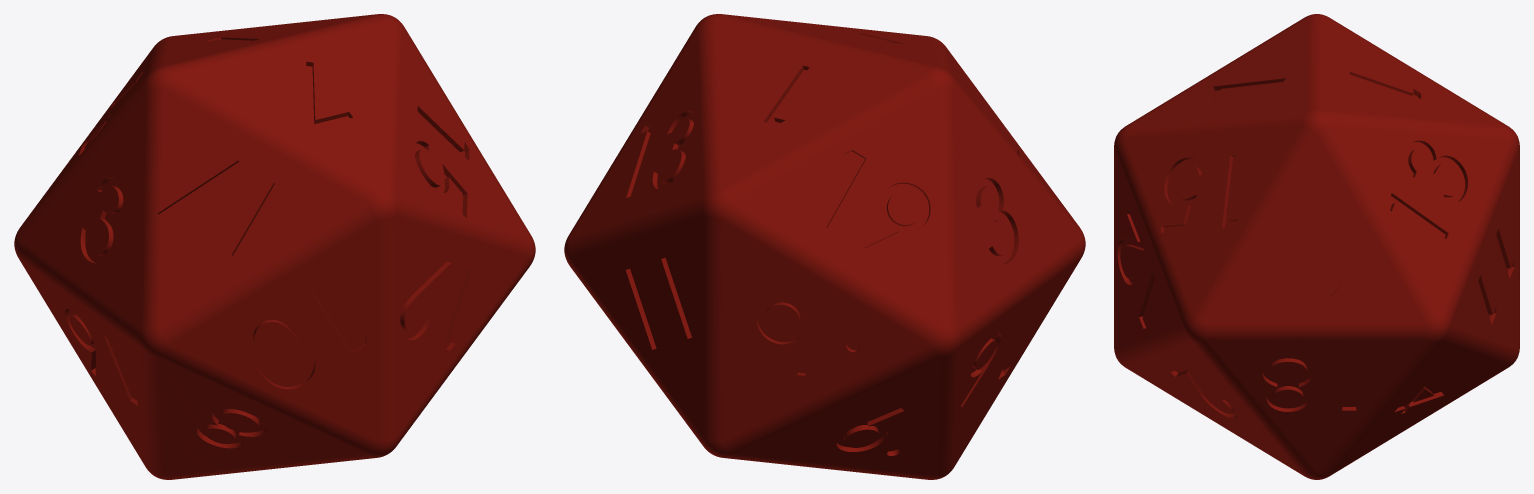
3 renders of one model, left to right at view 1: azimuth 30°, elevation 25°; view 2: azimuth 150°, elevation 25°; view 3: azimuth 270°, elevation 25°, orthographic. The views are drawn at different scales.
Visible parts, largest first — view 1: 20-faces-chiffres; view 2: 20-faces-chiffres; view 3: 20-faces-chiffres.
Boxes of the visible parts, x1,y1,x2,y2 form: 20-faces-chiffres: [14, 14, 535, 479]; 20-faces-chiffres: [564, 14, 1085, 479]; 20-faces-chiffres: [1114, 14, 1519, 479].
Bounding box in the file's own units: 0.5293 × 0.5293 × 0.5293.
